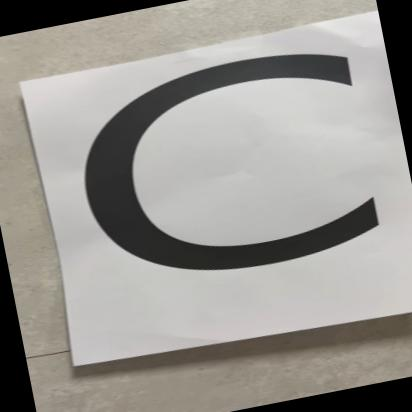seat: (2, 7, 412, 373)
